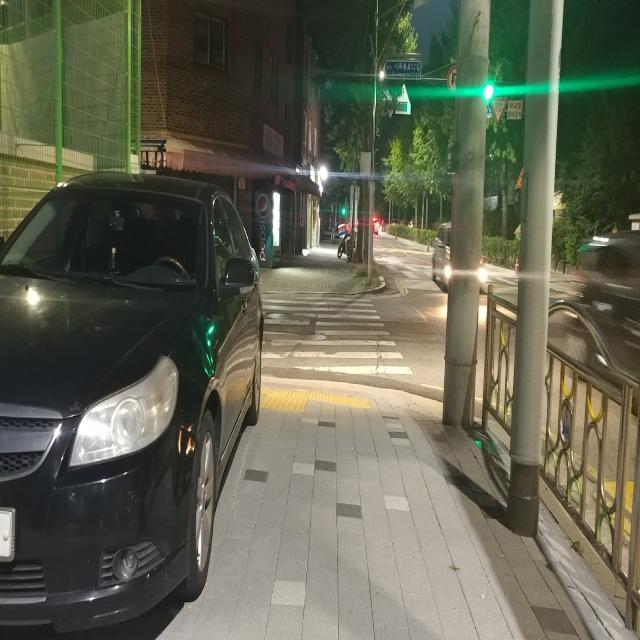횡단보도: (260, 295, 413, 377)
